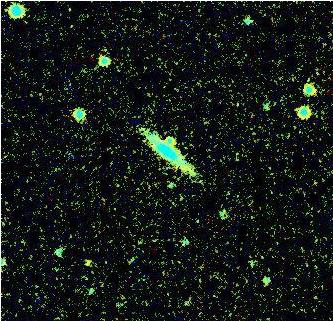star: (75, 249, 105, 279)
